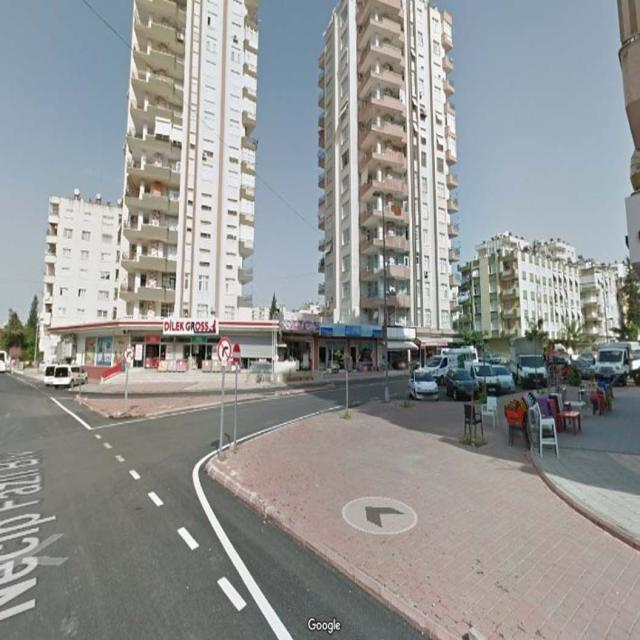girisyok: (233, 344, 241, 365)
sagadonulmez: (218, 338, 232, 363), (124, 347, 133, 362)
